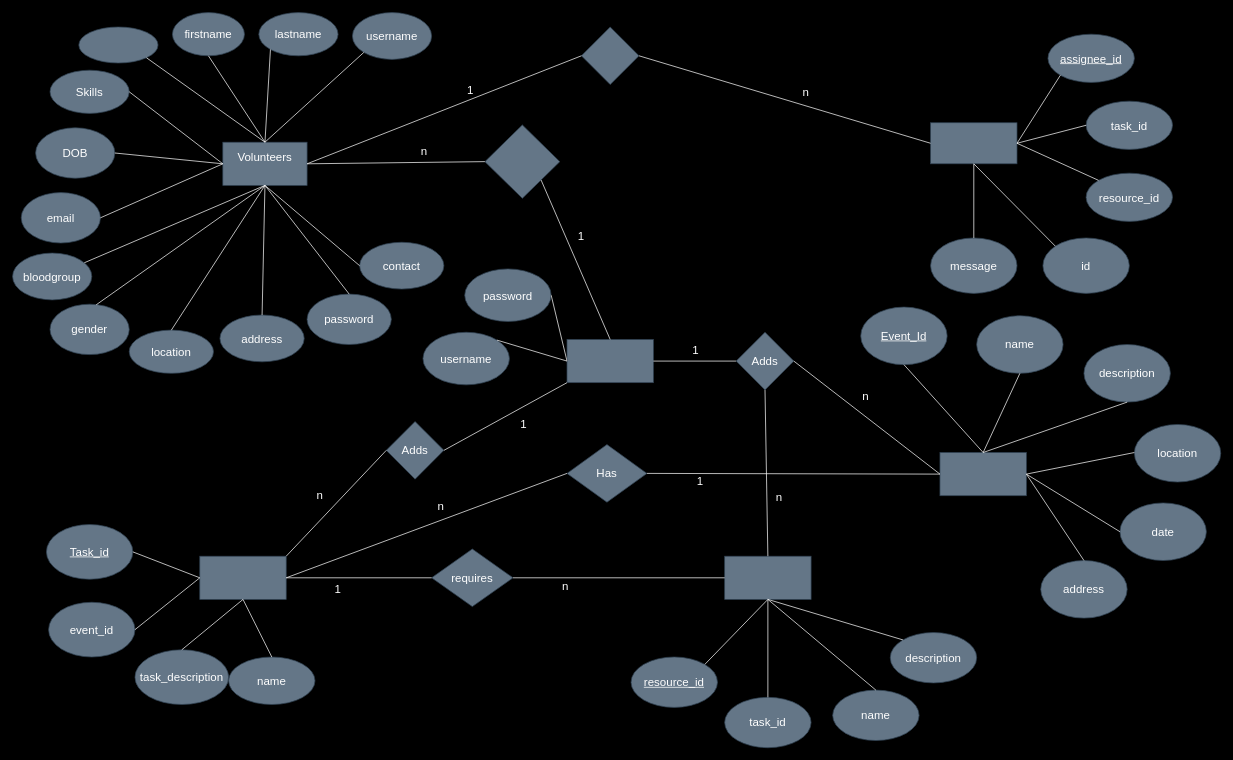
This 1233x760 diagram has some shape labels left out. The box of each missing label's shape, as (x1, y1, x2, y2) in pixels:
Assigned: (581, 26, 639, 85)
Assignee: (930, 122, 1017, 164)
Event: (939, 452, 1026, 496)
Manages: (484, 124, 560, 198)
Resource: (724, 555, 811, 599)
Task_event: (199, 555, 286, 599)
User: (566, 339, 653, 383)
Volunteer_Id: (78, 26, 158, 63)
